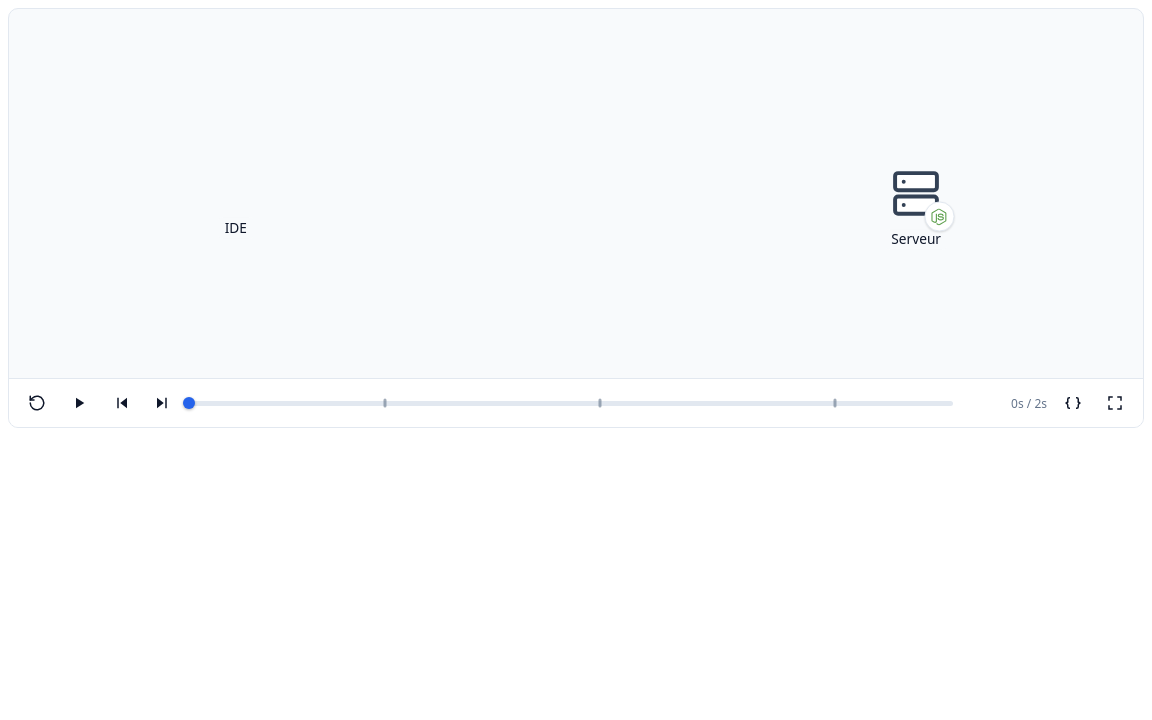
Scenario: DataFlowPlayer (montage réel) › ouvre la fenêtre JSON colorée quand exportable
Click the button named "Spécification JSON": (1073,403) top-left (1057, 387), bottom-right (1089, 419)
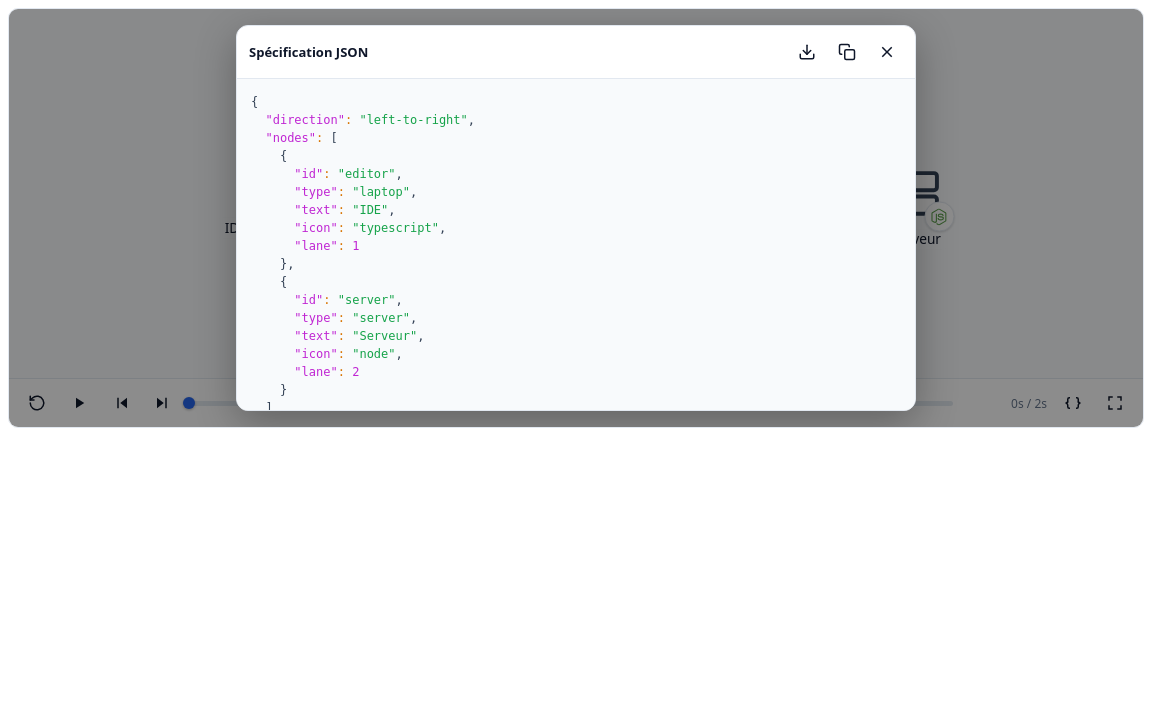
expect the element with class "rdfa-dialog-code" shows "\"nodes\"": met, box top-left (266, 131), bottom-right (316, 145)
expect the 1st text with class "token" is shown: met, box top-left (251, 95), bottom-right (258, 109)
